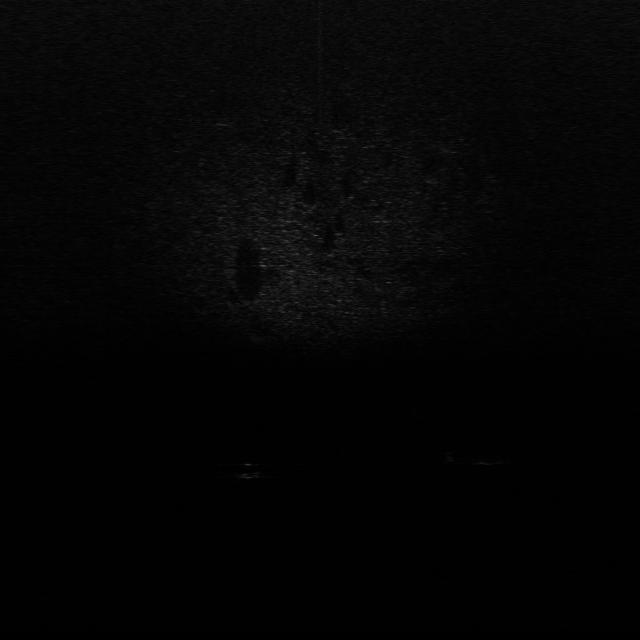ball: (230, 458, 268, 482)
human body: (438, 444, 531, 470)
